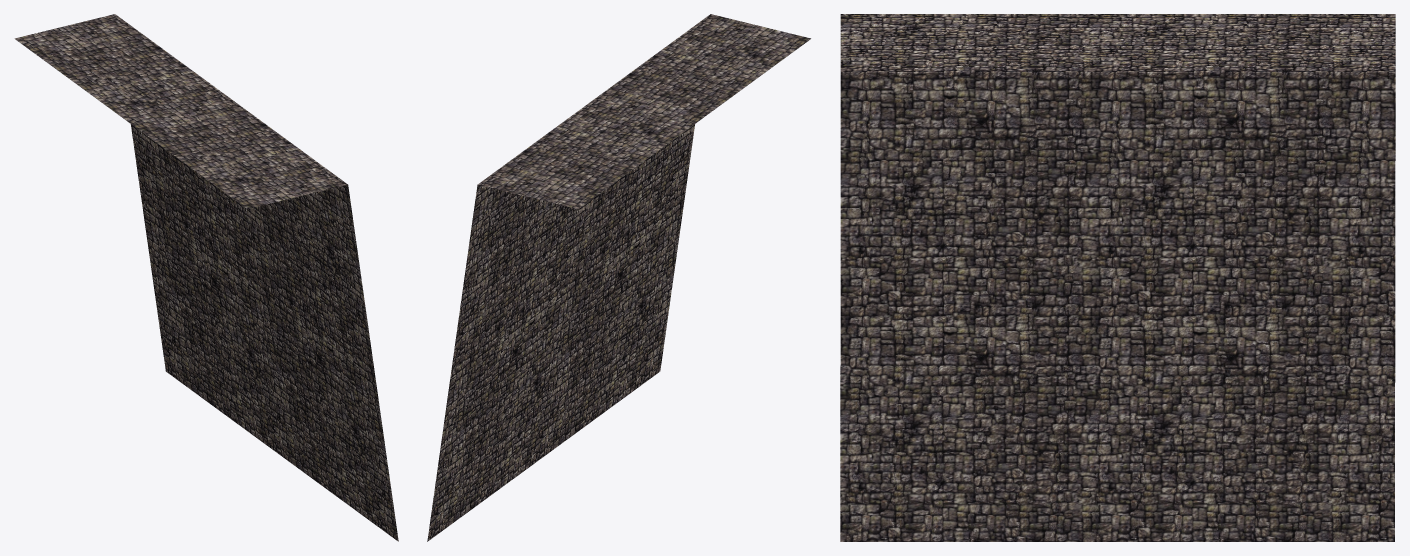
File: pir_m_bld_frt_outerWall_100.fbx
3 renders of one model, left to right at view 1: azimuth 30°, elevation 25°; view 2: azimuth 150°, elevation 25°; view 3: azimuth 270°, elevation 25°, orthographic. The views are drawn at different scales.
Visible parts, largest first — view 1: outerWall_100; view 2: outerWall_100; view 3: outerWall_100.
Boxes of the visible parts, x1,y1,x2,y2 form: outerWall_100: (14, 14, 398, 541); outerWall_100: (427, 14, 810, 541); outerWall_100: (840, 14, 1395, 541).
Size of the model in its own units: 3750 by 8750 by 10006.
Materials: 1 (1 with a texture image).
